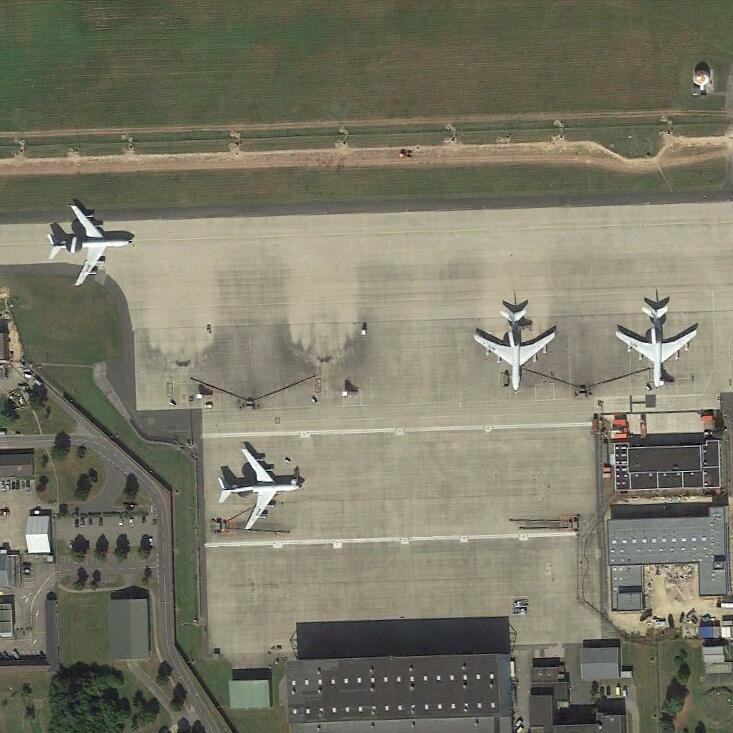A7: (46, 201, 134, 288), (215, 446, 302, 531), (472, 308, 558, 391), (615, 304, 698, 389)
